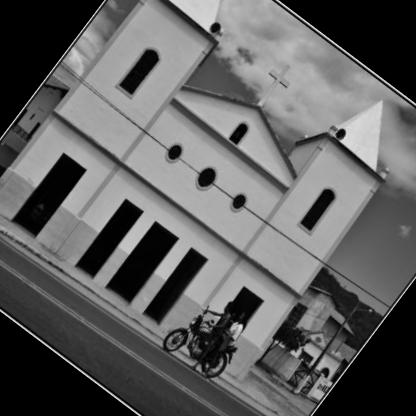moto: (148, 288, 270, 404)
